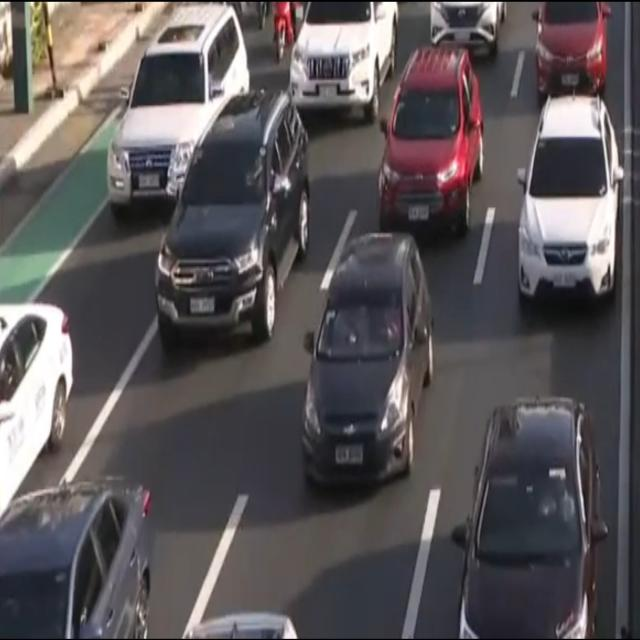SUV: (155, 90, 310, 341), (108, 4, 250, 218), (378, 50, 482, 238), (288, 0, 397, 117)
Sedan: (456, 398, 602, 640), (299, 235, 433, 490), (0, 481, 158, 639), (516, 99, 618, 311), (0, 299, 72, 530), (532, 0, 610, 101)
